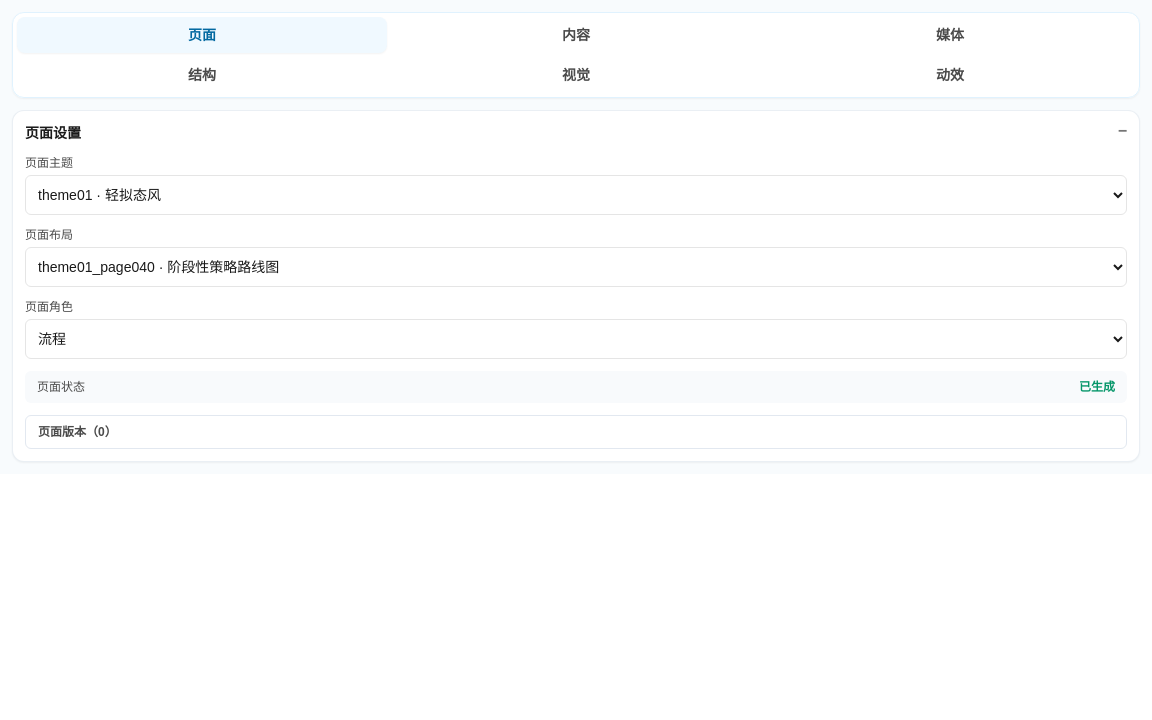
Scenario: NativeDeckPropertyPanel DashiAI fields › splits page animation settings into compact subgroups
Click the tab "动效".
click(950, 75)  # box [765, 57, 1135, 93]
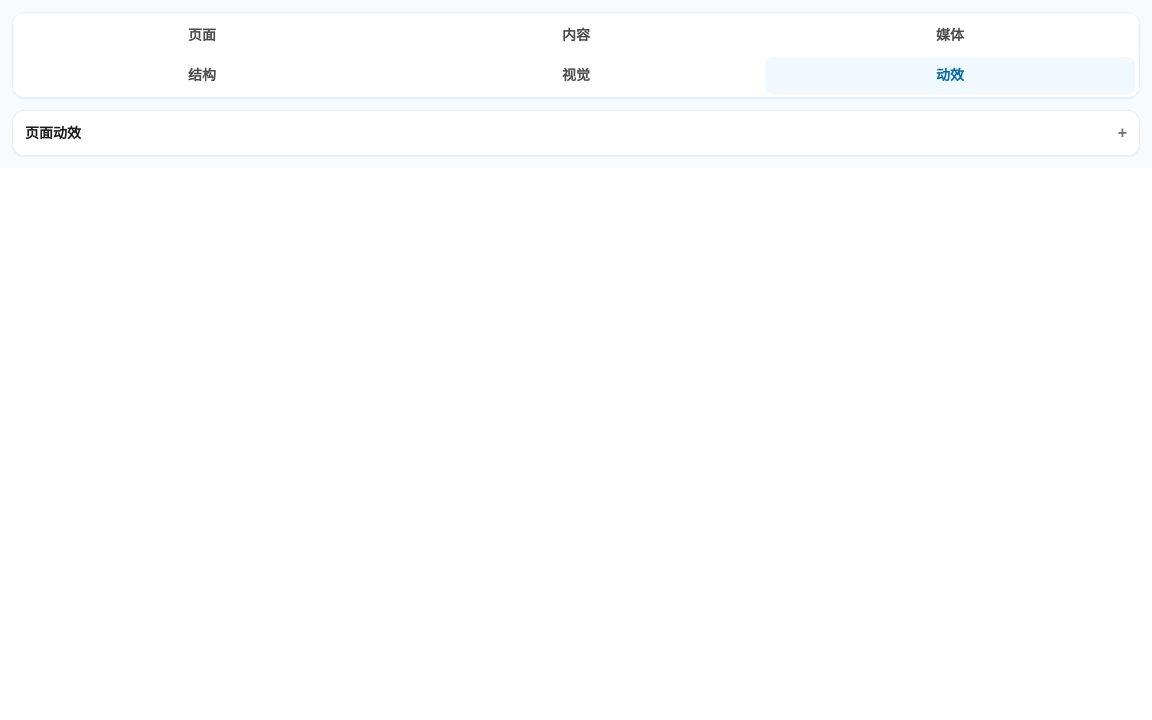
Now the text "页面动效" is shown
Click the heading "页面动效".
click(53, 133)  # box [25, 123, 81, 143]
(page scrolled)
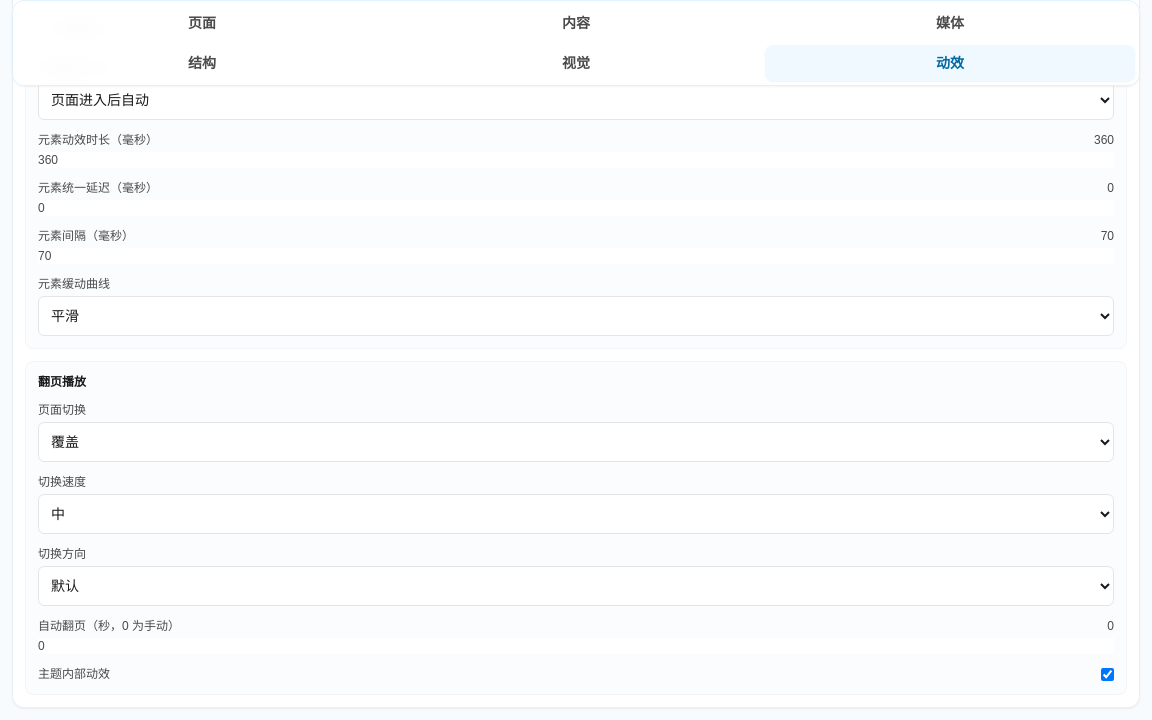
Now the heading "翻页播放" is shown, box [38, 375, 86, 389]
